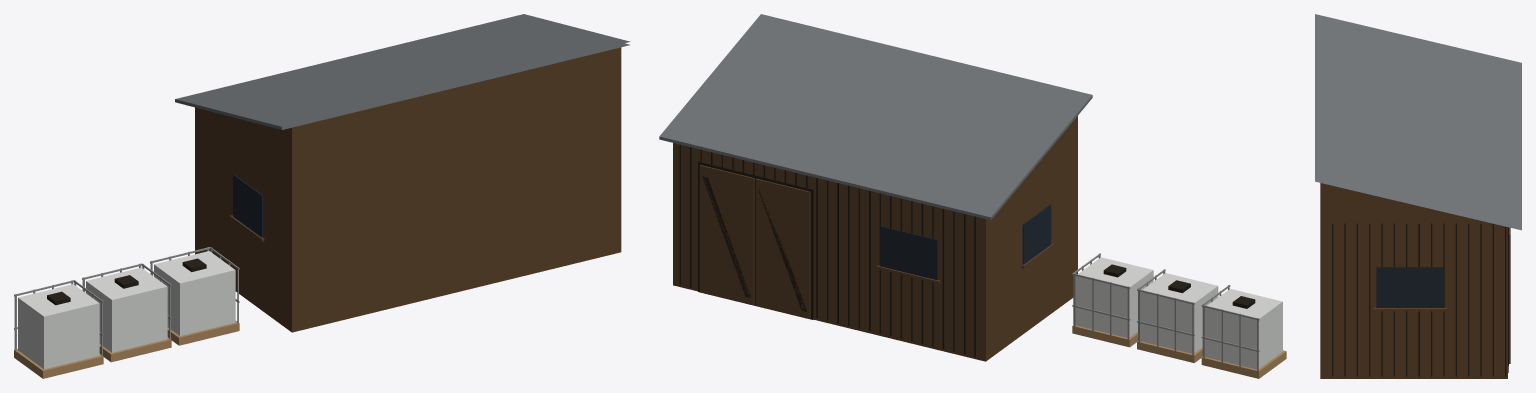
File: pole_bouda.glb
3 renders of one model, left to right at view 1: azimuth 30°, elevation 25°; view 2: azimuth 150°, elevation 25°; view 3: azimuth 270°, elevation 25°, orthographic. The views are drawn at different scales.
Visible parts, largest first — view 1: bouda_prkna.001; view 2: bouda_prkna.001; view 3: bouda_prkna.001.
Part boxes in pixels (<box>): bouda_prkna.001: <box>14,14,630,378</box>; bouda_prkna.001: <box>659,14,1286,378</box>; bouda_prkna.001: <box>1315,14,1521,378</box>.
Size of the model in its own units: 11.3 by 3.99 by 3.67.
Materials: 1 (1 with a texture image).
